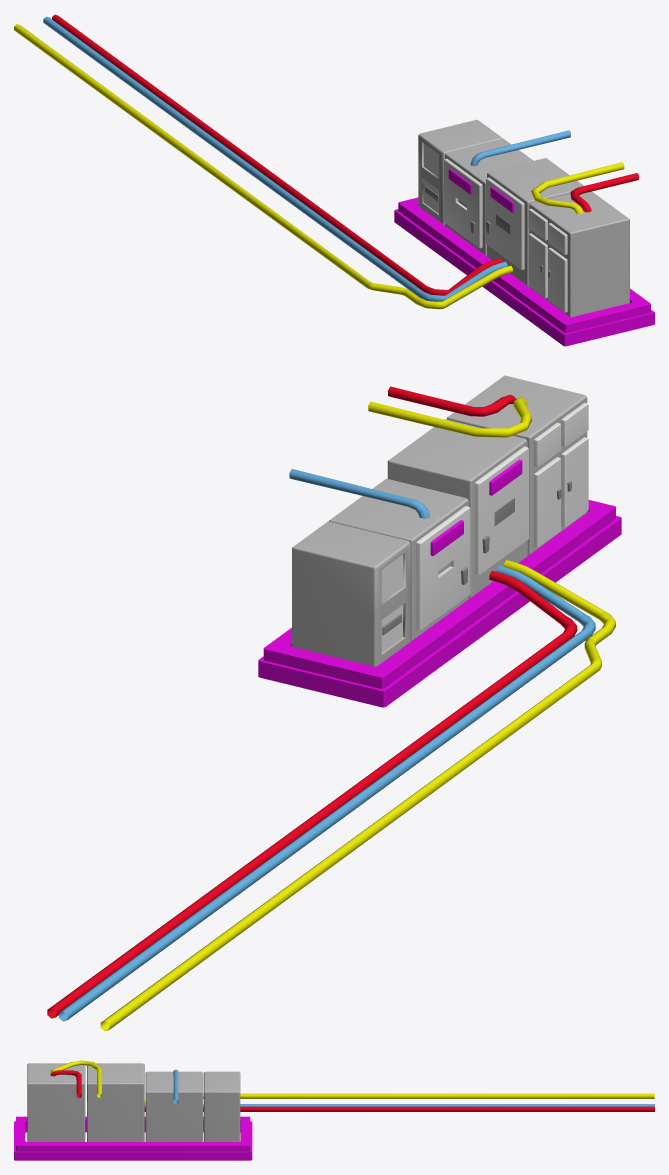
File: Electricity1.fbx
3 renders of one model, top to bottom at view 1: azimuth 30°, elevation 25°; view 2: azimuth 150°, elevation 25°; view 3: azimuth 270°, elevation 25°, orthographic. The views are drawn at different scales.
Parts seen in each view (by area): view 1: Case4, Under_cases, Case3, Cable5, Case2, Cable6, Cable1, Case1, Cable2, Cable4, Cable3; view 2: Under_cases, Case1, Case3, Case4, Case2, Cable5, Cable6, Cable1, Cable2, Cable4, Cable3; view 3: Under_cases, Case3, Case4, Case2, Case1, Cable1, Cable5, Cable6, Cable2, Cable3, Cable4.
Boxes of the visible parts, <box> form: Case4: <box>528,191,629,317</box>; Under_cases: <box>394,197,654,346</box>; Case3: <box>486,158,583,286</box>; Cable5: <box>14,24,512,309</box>; Case2: <box>444,139,533,255</box>; Cable6: <box>43,16,507,301</box>; Cable1: <box>52,14,502,295</box>; Case1: <box>418,119,503,225</box>; Cable2: <box>531,162,624,214</box>; Cable4: <box>470,130,570,166</box>; Cable3: <box>570,173,638,212</box>; Under_cases: <box>258,500,621,707</box>; Case1: <box>292,521,410,666</box>; Case3: <box>387,419,528,598</box>; Case4: <box>447,375,588,555</box>; Case2: <box>329,478,470,641</box>; Cable5: <box>100,560,615,1031</box>; Cable6: <box>59,565,595,1021</box>; Cable1: <box>47,570,577,1018</box>; Cable2: <box>368,397,531,437</box>; Cable4: <box>289,469,429,518</box>; Cable3: <box>388,386,515,416</box>; Under_cases: <box>14,1116,252,1160</box>; Case3: <box>87,1063,144,1141</box>; Case4: <box>27,1063,85,1141</box>; Case2: <box>145,1071,202,1141</box>; Case1: <box>203,1071,240,1141</box>; Cable1: <box>144,1106,654,1111</box>; Cable5: <box>144,1093,654,1103</box>; Cable6: <box>144,1104,654,1106</box>; Cable2: <box>50,1060,101,1097</box>; Cable3: <box>50,1070,81,1098</box>; Cable4: <box>173,1069,178,1104</box>.
Bounding box in the file's own units: 6.38 × 3.18 × 23.93.
